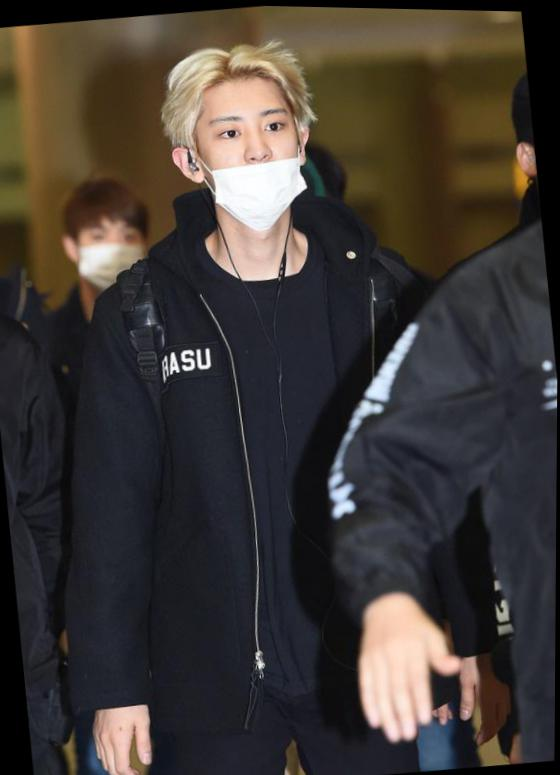OK: (66, 209, 155, 299)
WRONG: (180, 87, 323, 231)
